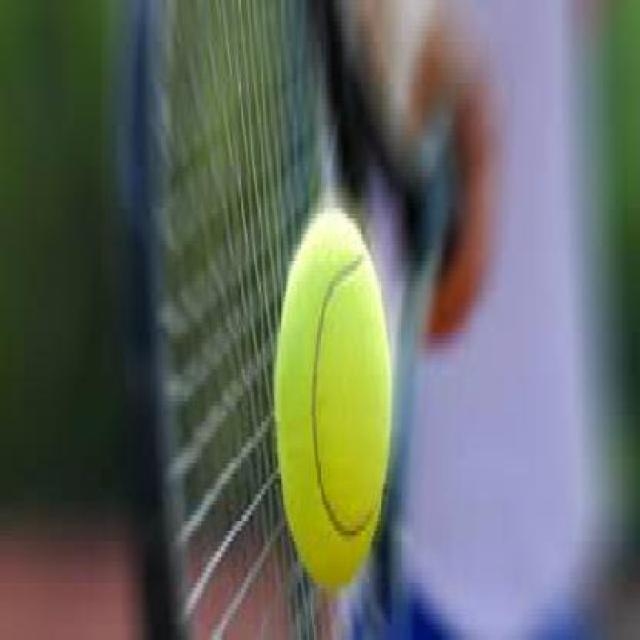Tennis_Ball: (274, 206, 388, 594)
